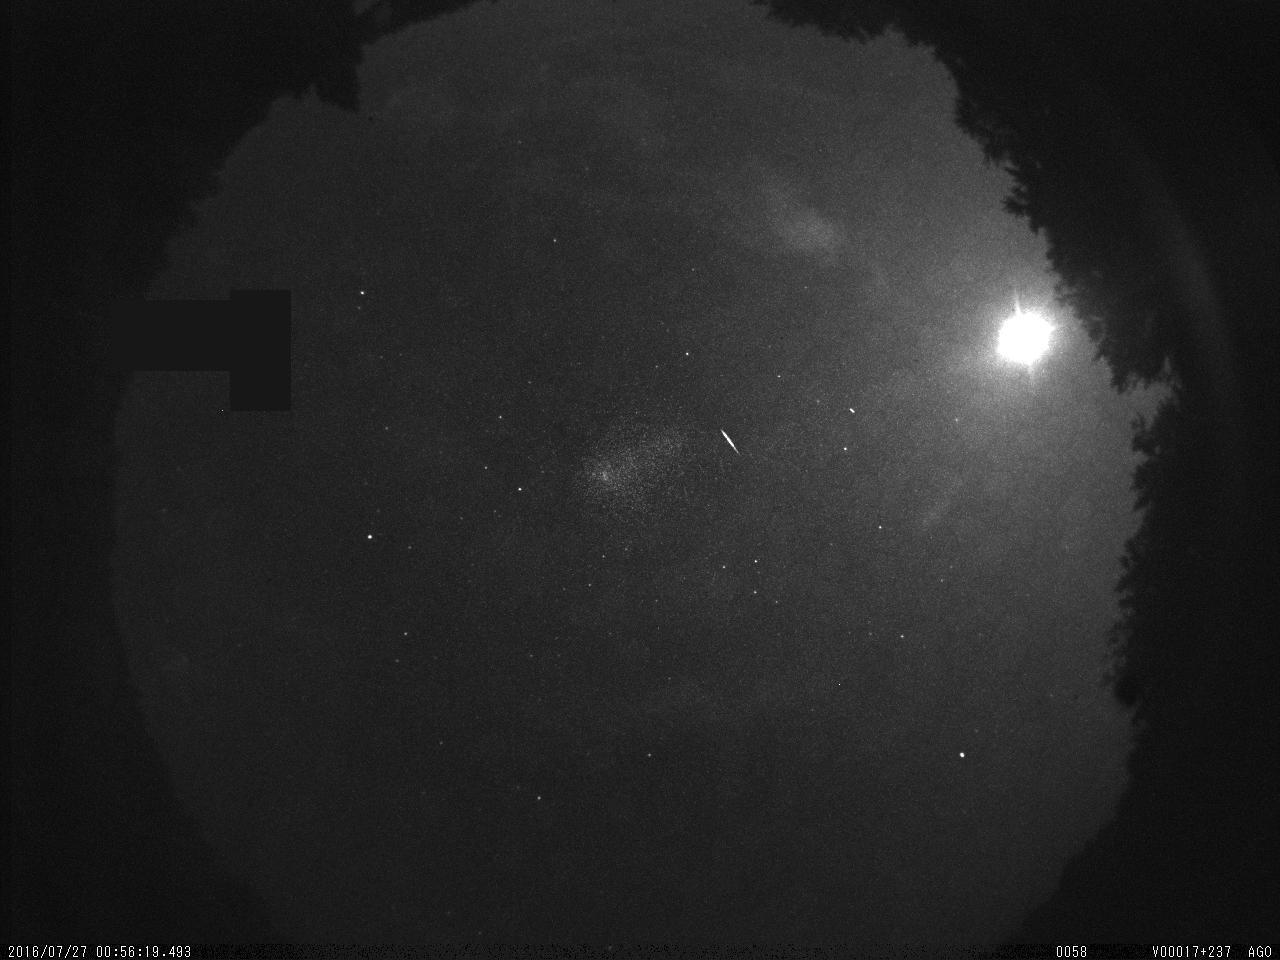Meteor: (719, 425, 740, 455)
